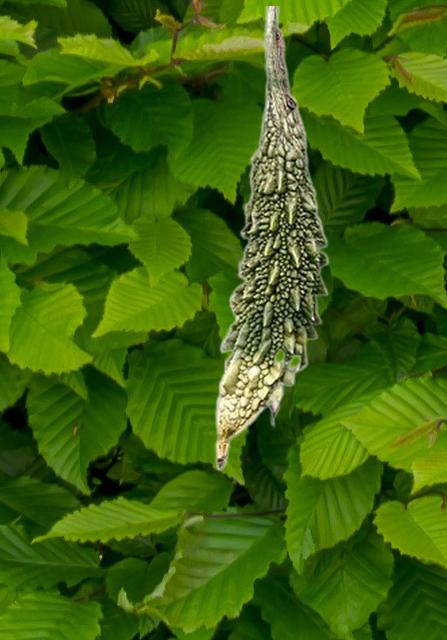ampalaya: (214, 6, 329, 471)
